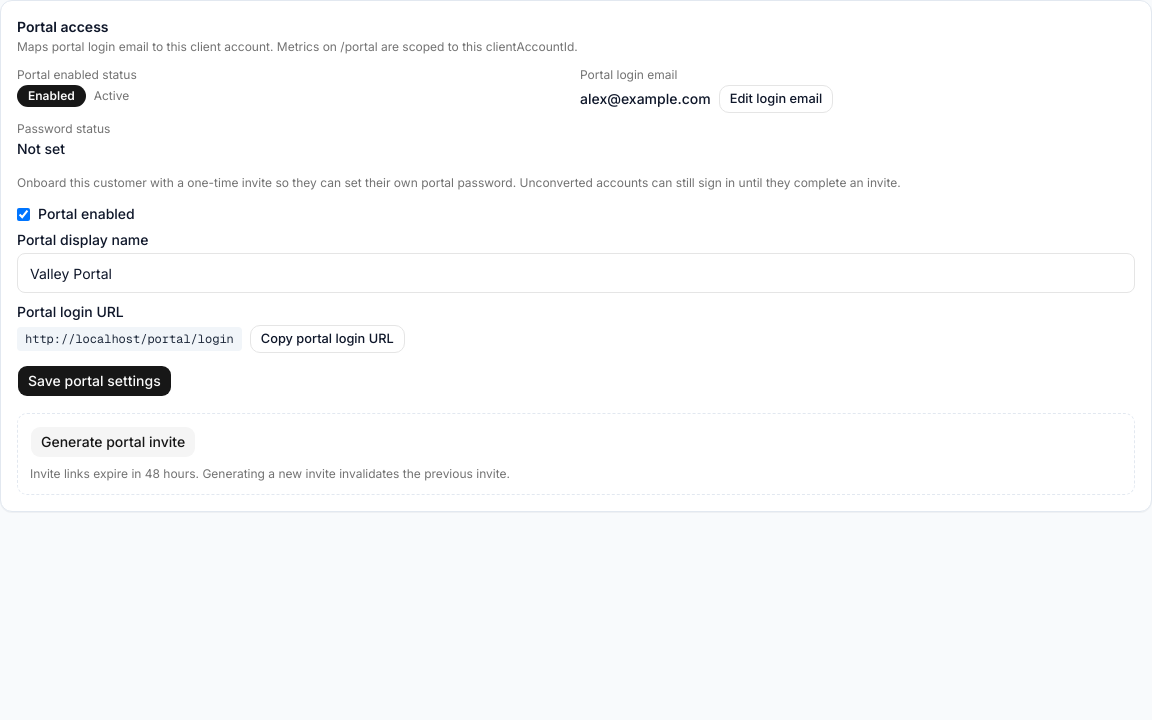
API error produces safe operator copy and no secret fields in the DOM
Click the button "Generate portal invite".
click(113, 442)  # box [30, 426, 196, 458]
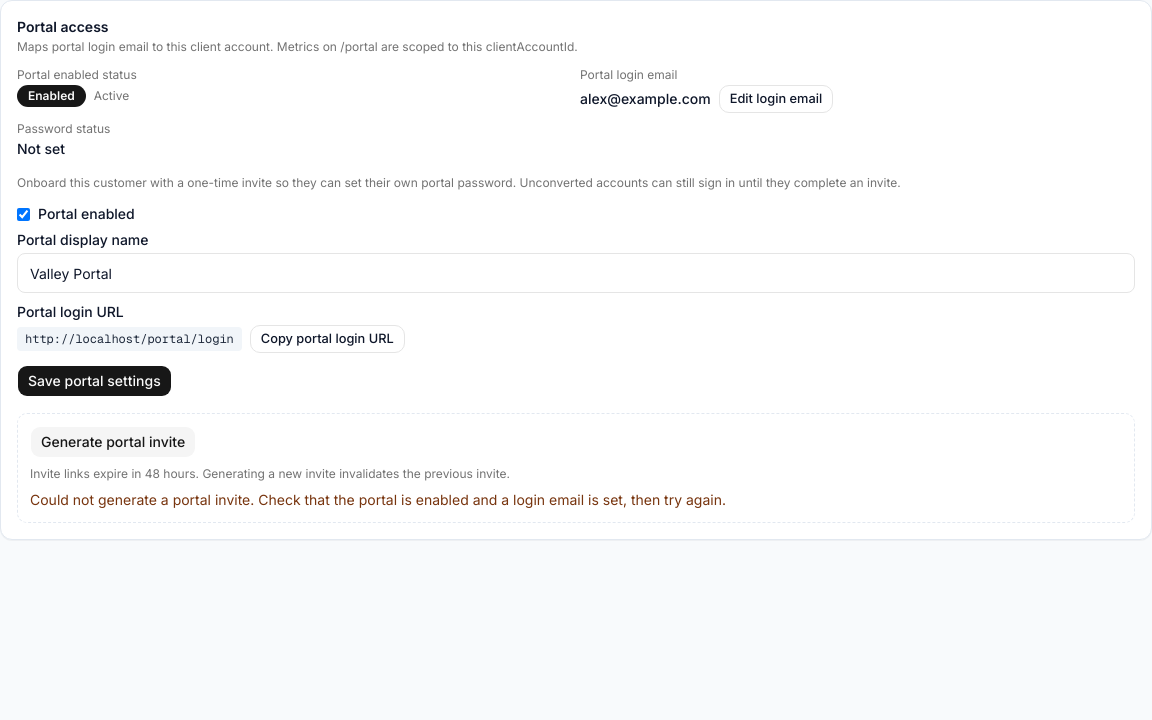
Check: the message shows "Could not generate a portal invite. Check that the portal is enabled and a login email is set, then try again.", box [30, 491, 726, 508]
